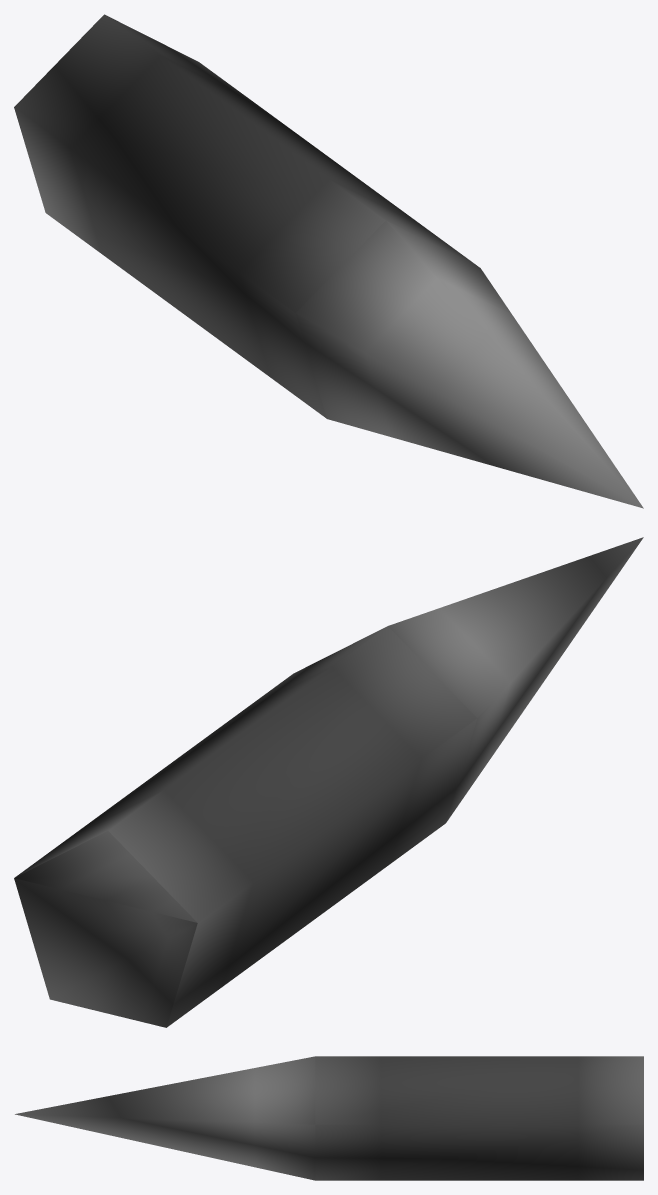
File: rocket-heavy.glb
The picture shows the model from 3 angles, top to bottom: view 1: azimuth 30°, elevation 25°; view 2: azimuth 150°, elevation 25°; view 3: azimuth 270°, elevation 25°; orthographic projection. The views are drawn at different scales.
Parts seen in each view (by area): view 1: root; view 2: root; view 3: root.
Part boxes in pixels (box(x1,y1,x2,y2)): root: box(14, 14, 643, 508); root: box(14, 537, 643, 1027); root: box(15, 1056, 643, 1180).
Bounding box in the file's own units: 0.0801 × 0.0762 × 0.4043.
1 material, 1 textured.
